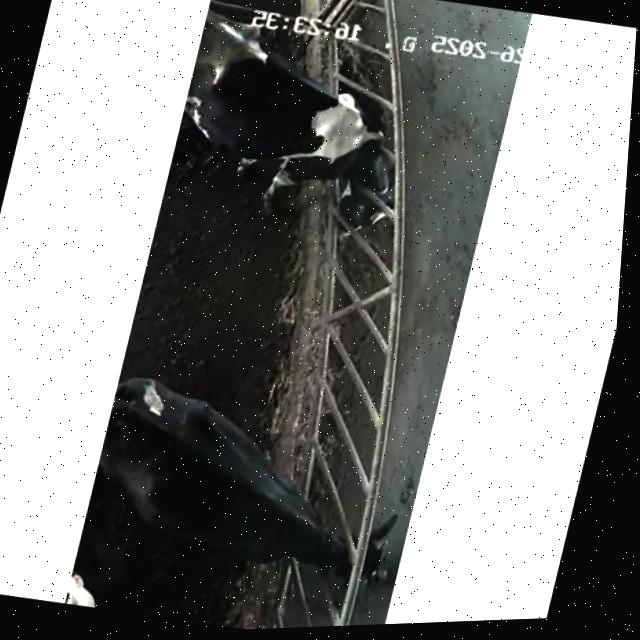eat: (250, 68, 449, 243), (225, 450, 422, 619)
